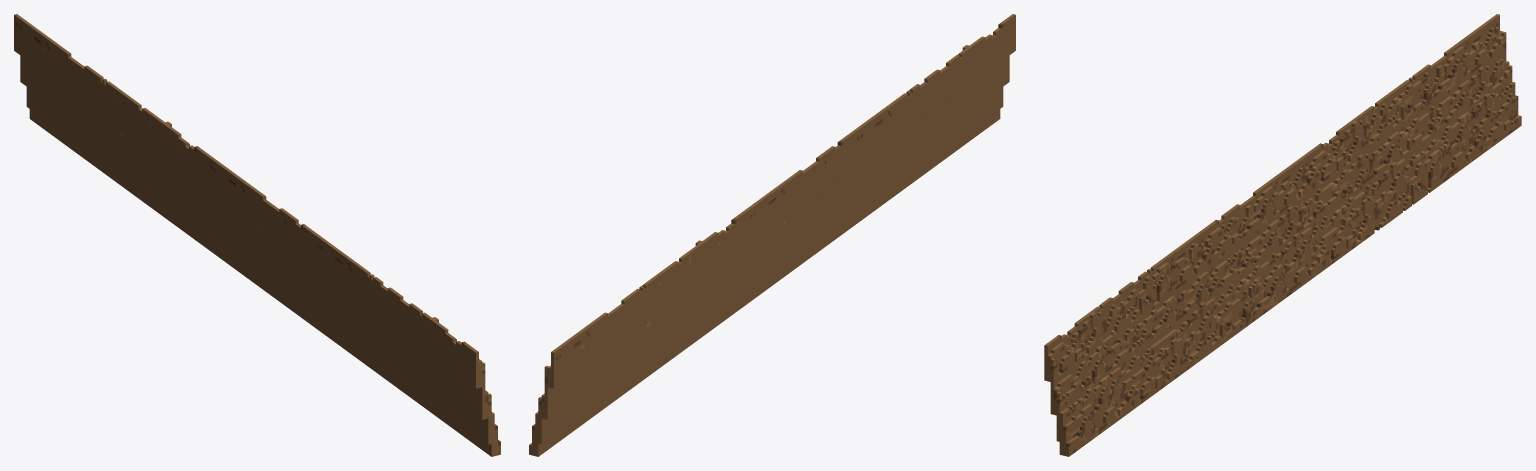
Rendered from cliff.vox.obj.
3 views of the same model, side by side, from view 1: azimuth 30°, elevation 25°; view 2: azimuth 150°, elevation 25°; view 3: azimuth 330°, elevation 25° (orthographic). The views are drawn at different scales.
Bounding box in the file's own units: 0.8 × 3.3 × 25.6.
1 material, 1 textured.
